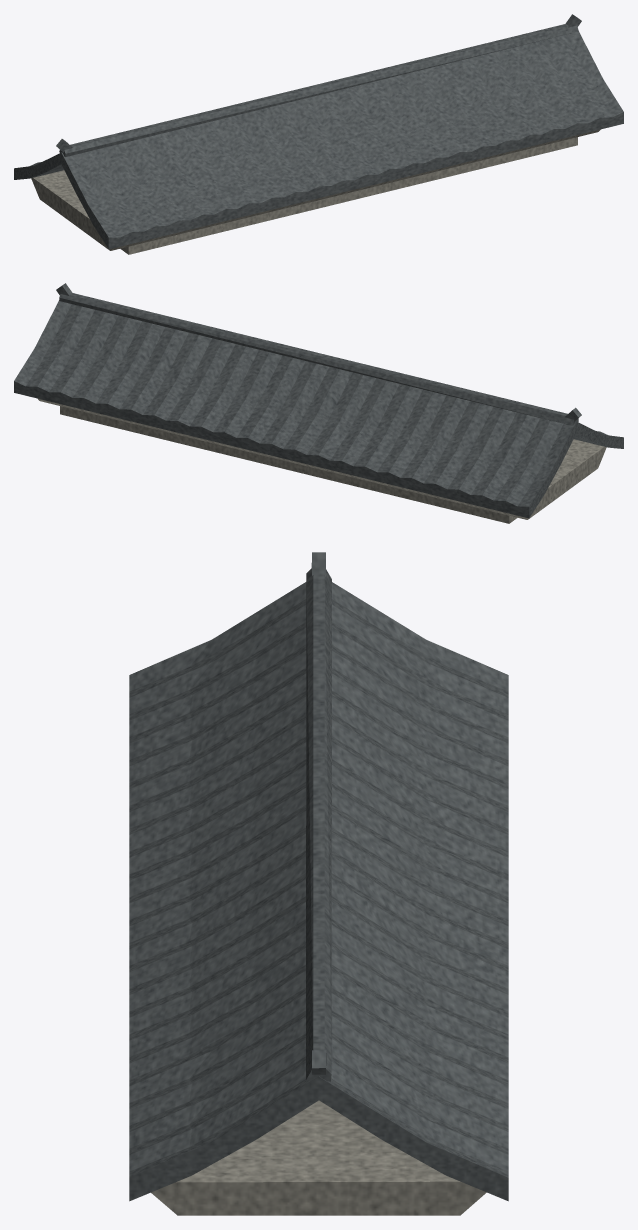
File: CliffGateCrown_LOD2.fbx
3 views of the same model, one above another, from view 1: azimuth 30°, elevation 25°; view 2: azimuth 150°, elevation 25°; view 3: azimuth 270°, elevation 25° (orthographic). The views are drawn at different scales.
Visible parts, largest first — view 1: CliffGateCrown.001; view 2: CliffGateCrown.001; view 3: CliffGateCrown.001.
Boxes of the visible parts, bbox=[...] form: CliffGateCrown.001: bbox=[14, 14, 623, 254]; CliffGateCrown.001: bbox=[14, 283, 623, 523]; CliffGateCrown.001: bbox=[129, 552, 508, 1215].
Bounding box in the file's own units: 3.25 × 0.5785 × 1.02.
1 material, 1 textured.
